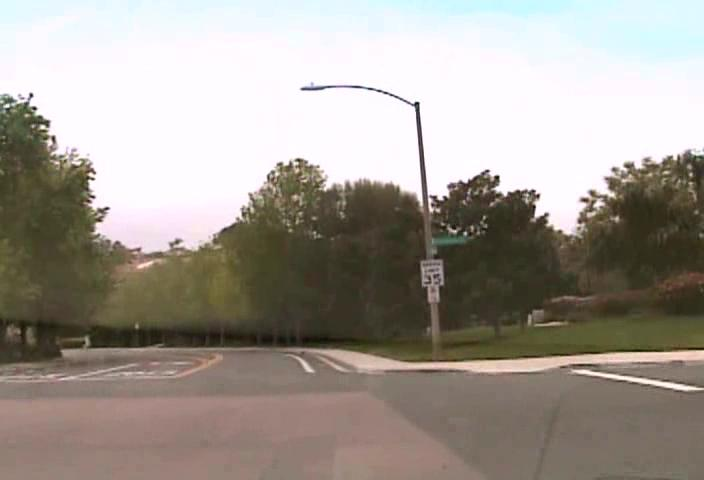speedLimit35: (420, 258, 445, 286)
